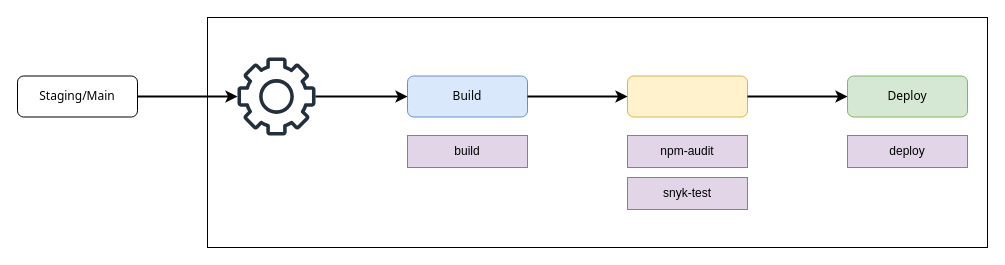
This 1005x265 diagram has some shape labels left out. The shapes that lost their labels are listed below. From the top down, each one's centre as x and y in pixels, then its label:
point (276, 96): Gitlab Runner
point (687, 96): Test
